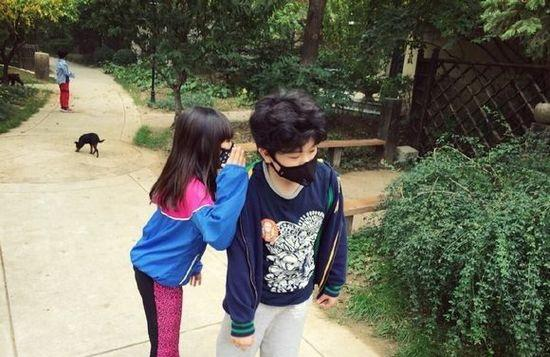WRONG: (269, 139, 320, 185)
